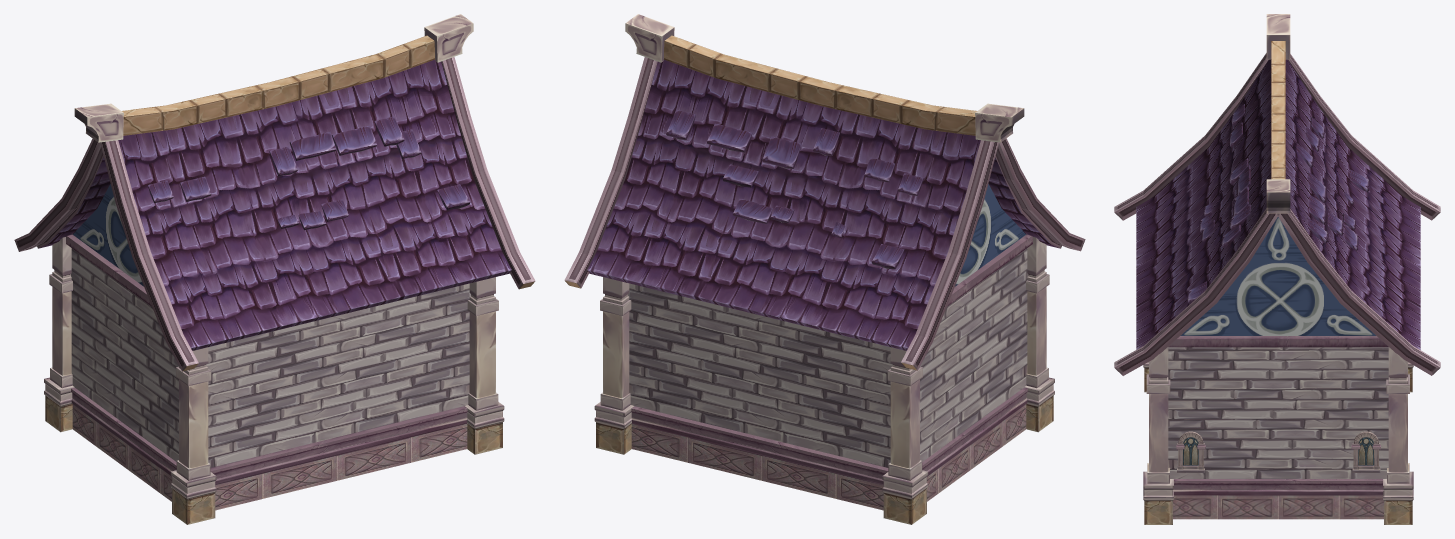
File: fangzi01.fbx
3 renders of one model, left to right at view 1: azimuth 30°, elevation 25°; view 2: azimuth 150°, elevation 25°; view 3: azimuth 270°, elevation 25°, orthographic. The views are drawn at different scales.
Visible parts, largest first — view 1: JZ_FangZi; view 2: JZ_FangZi; view 3: JZ_FangZi.
Part boxes in pixels (left/top/right/bottom): JZ_FangZi: left=14, top=14, right=535, bottom=524; JZ_FangZi: left=564, top=14, right=1085, bottom=524; JZ_FangZi: left=1114, top=14, right=1440, bottom=524.
Size of the model in its own units: 156 by 142 by 121.
1 material, 1 textured.
